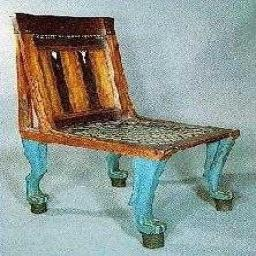Chair: (9, 13, 239, 248)
